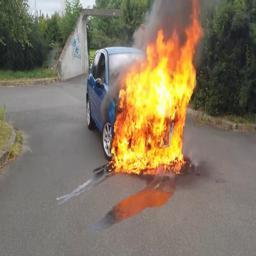fire: (112, 0, 202, 171)
